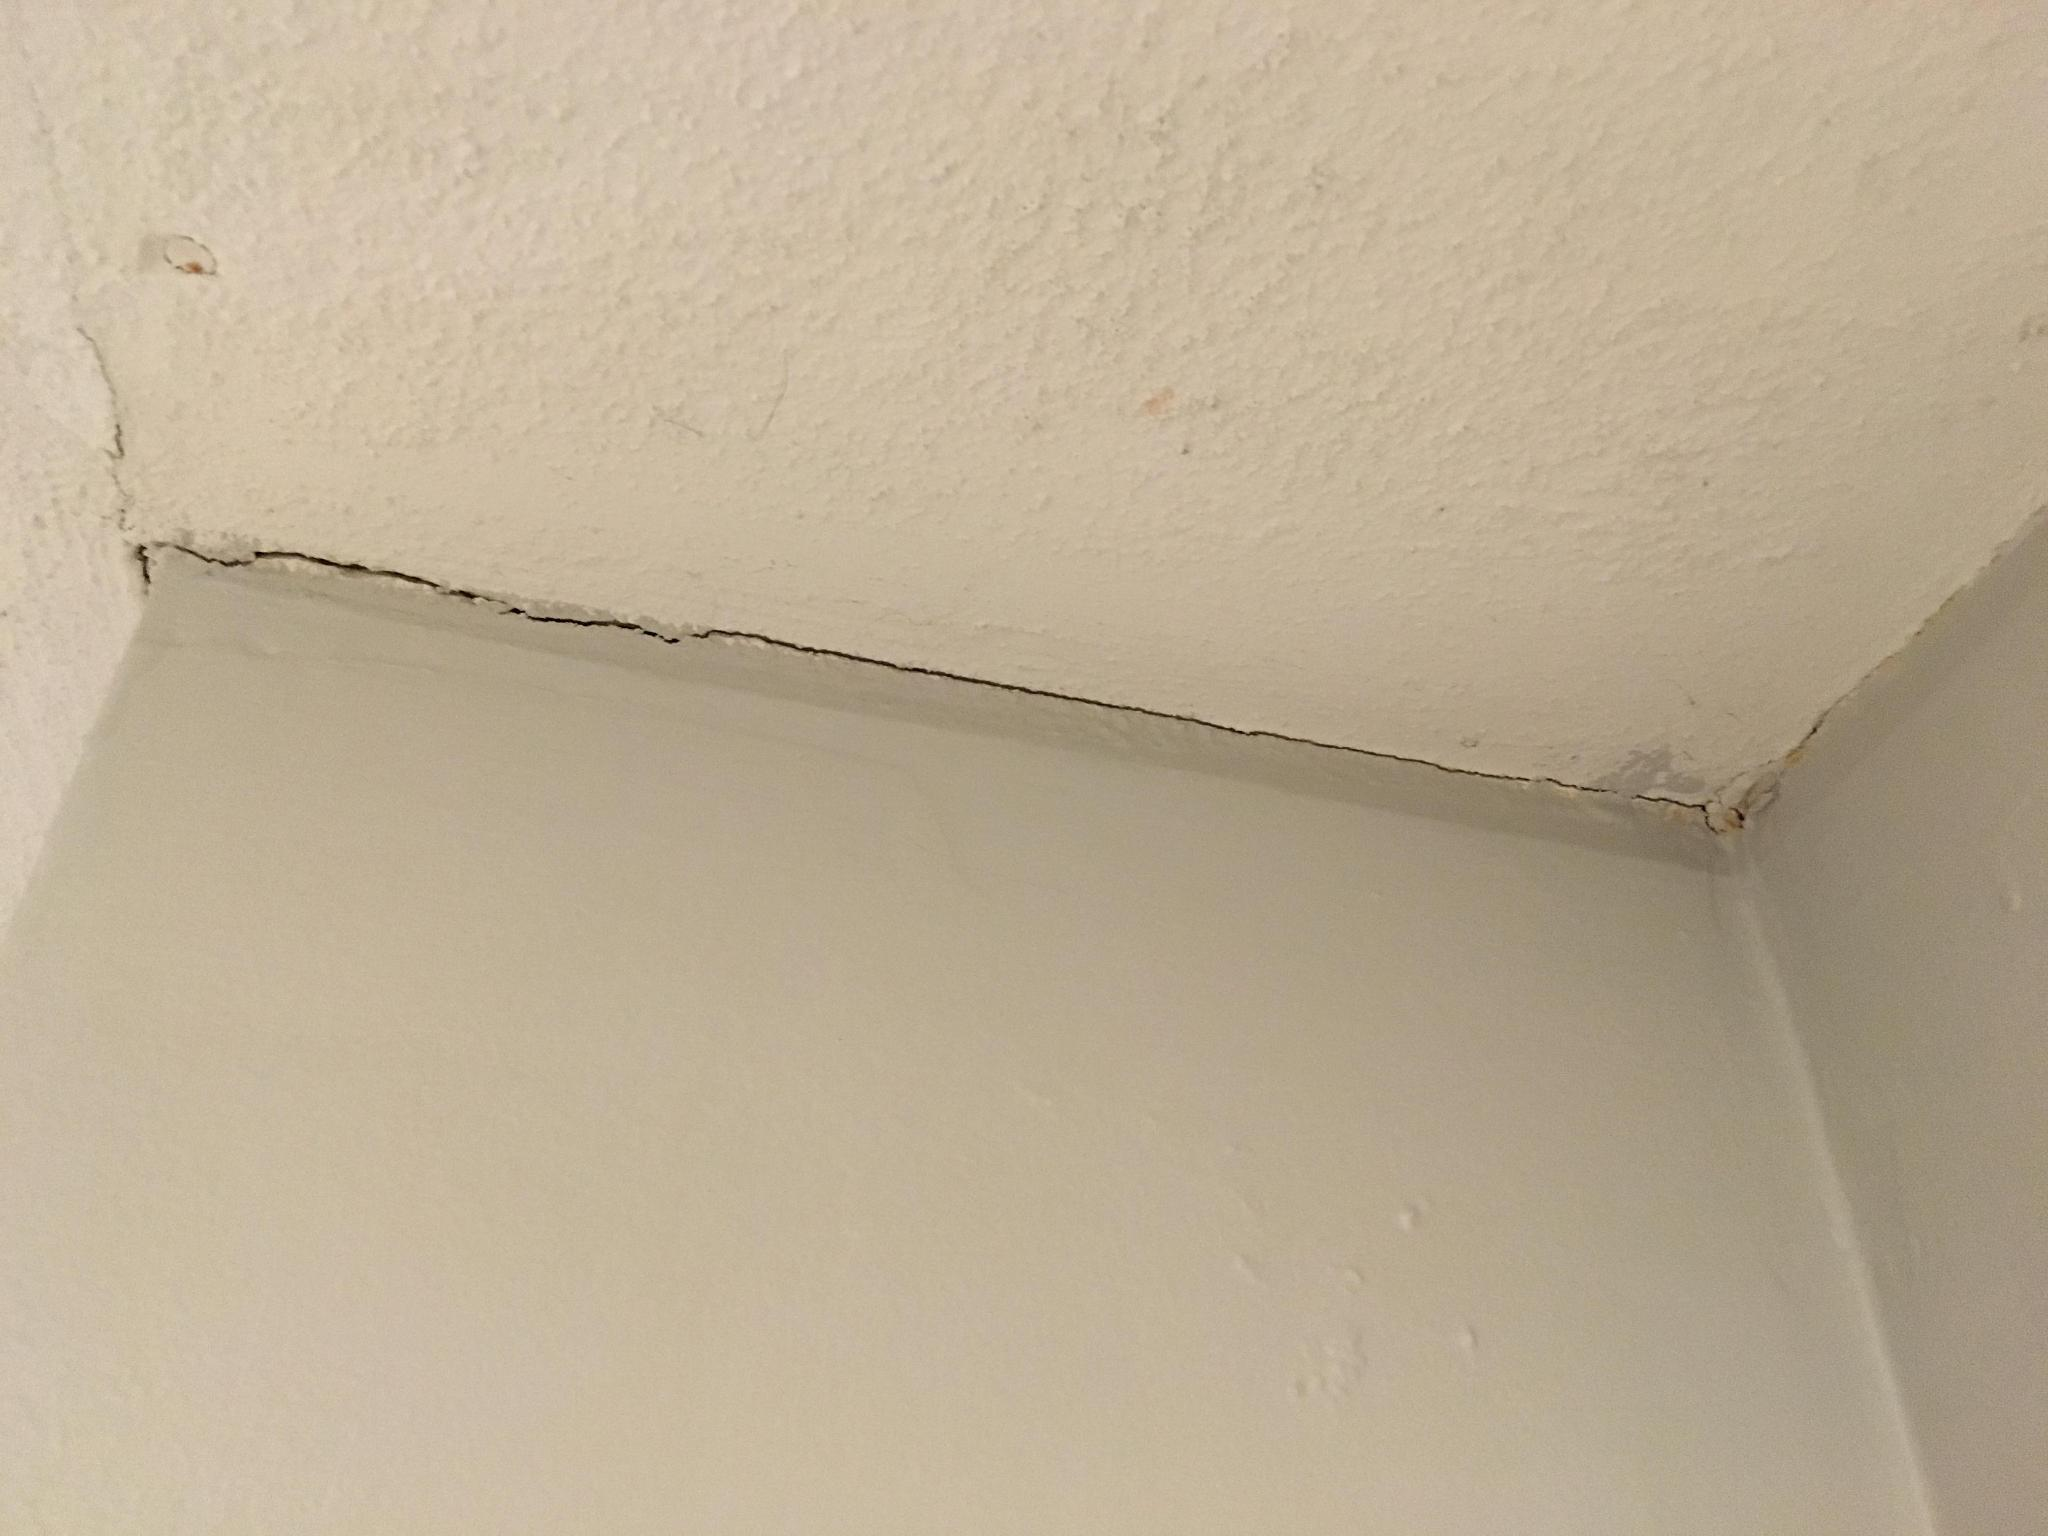crack: (1713, 552, 2004, 818), (947, 676, 1567, 787), (161, 544, 795, 647), (76, 328, 135, 532), (123, 537, 152, 584)
